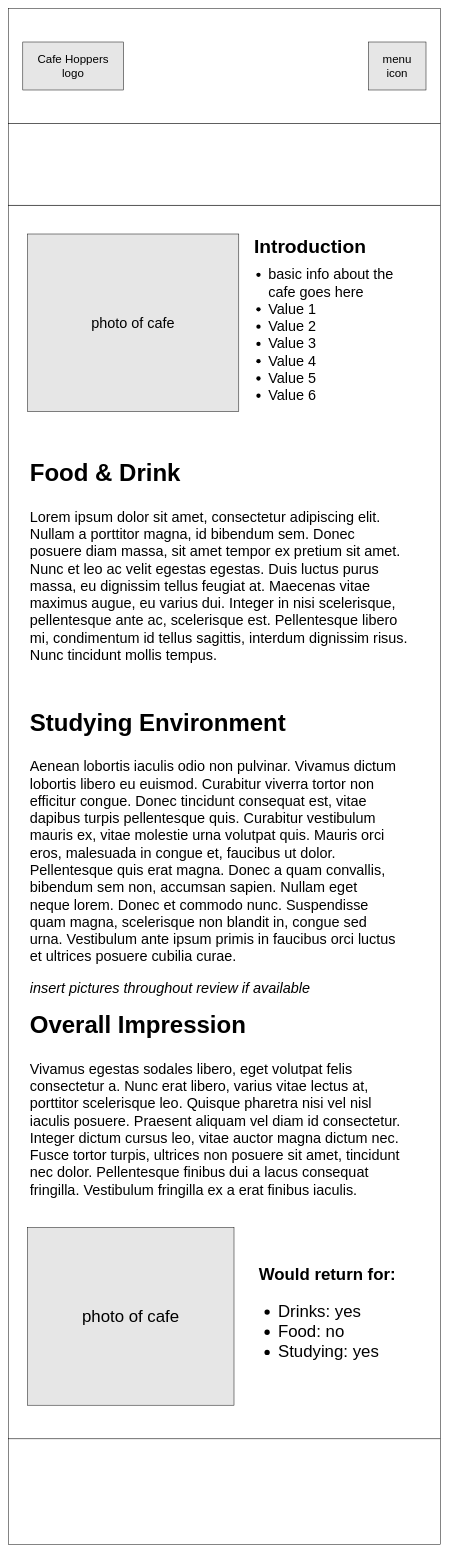
Image size: 449x1553. Some labels were removed from this diagram. Each missing label, with the box of its shape:
footer content: (8, 1438, 440, 1544)
Sue's Gallery Cafe: A Review: (8, 123, 440, 205)
